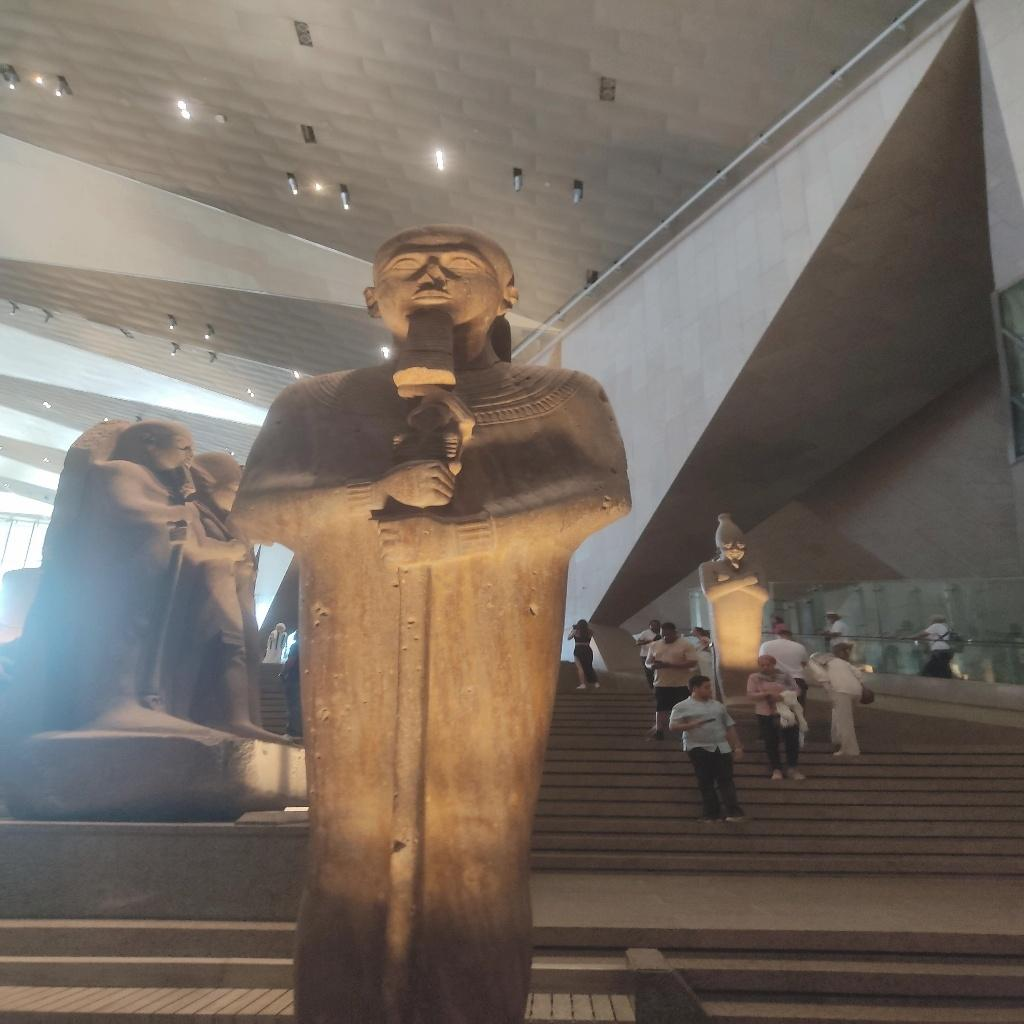Colossal Statue of God Ptah: (223, 219, 636, 1020)
